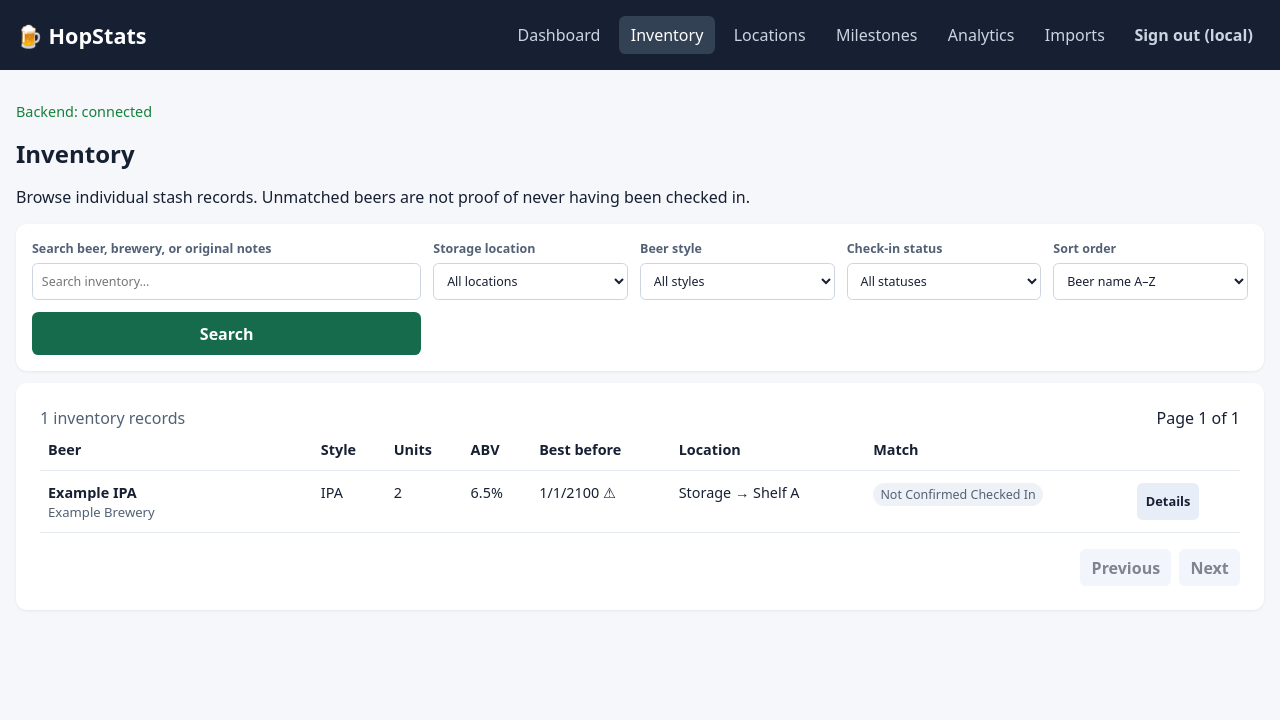
Test case: loads inventory, applies search, and opens record details
Expected: the text "Example IPA" is shown, 48,482 -> 137,502
In the field with placeholder "Search inventory…": (227, 281) 32,263 -> 421,300, type "Example"
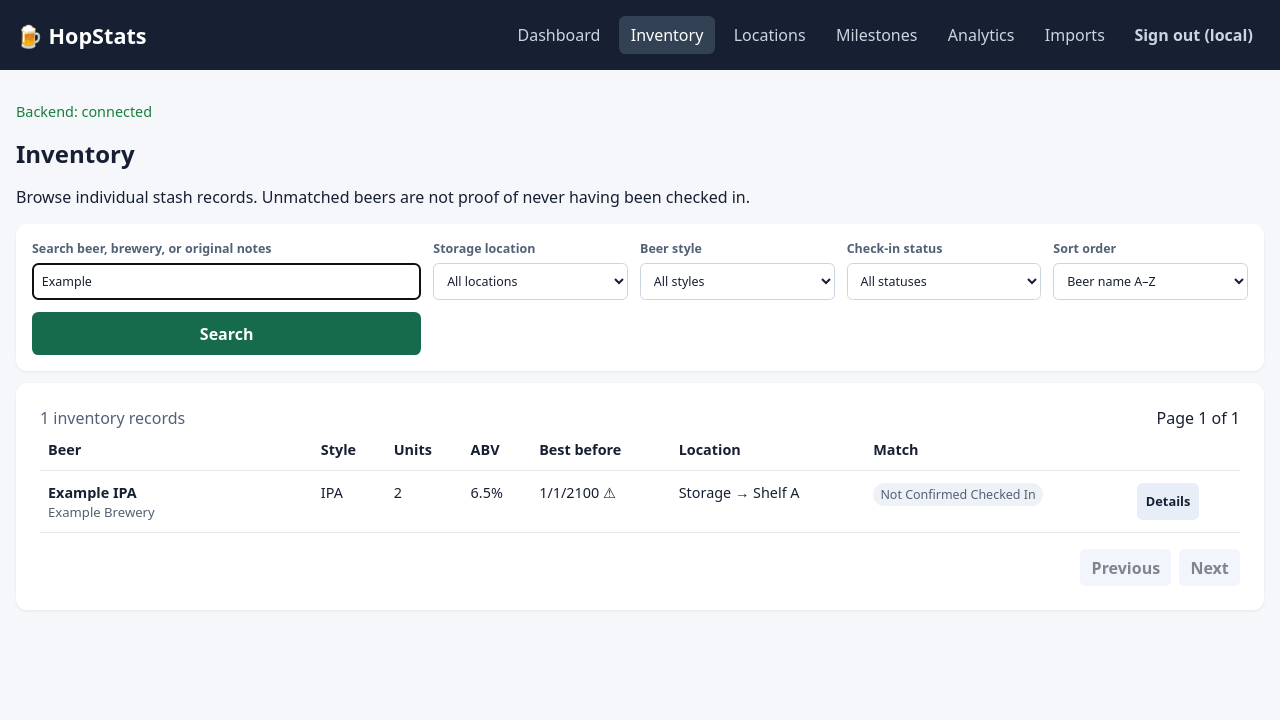
Click the button "Search": (227, 334) 32,312 -> 421,355
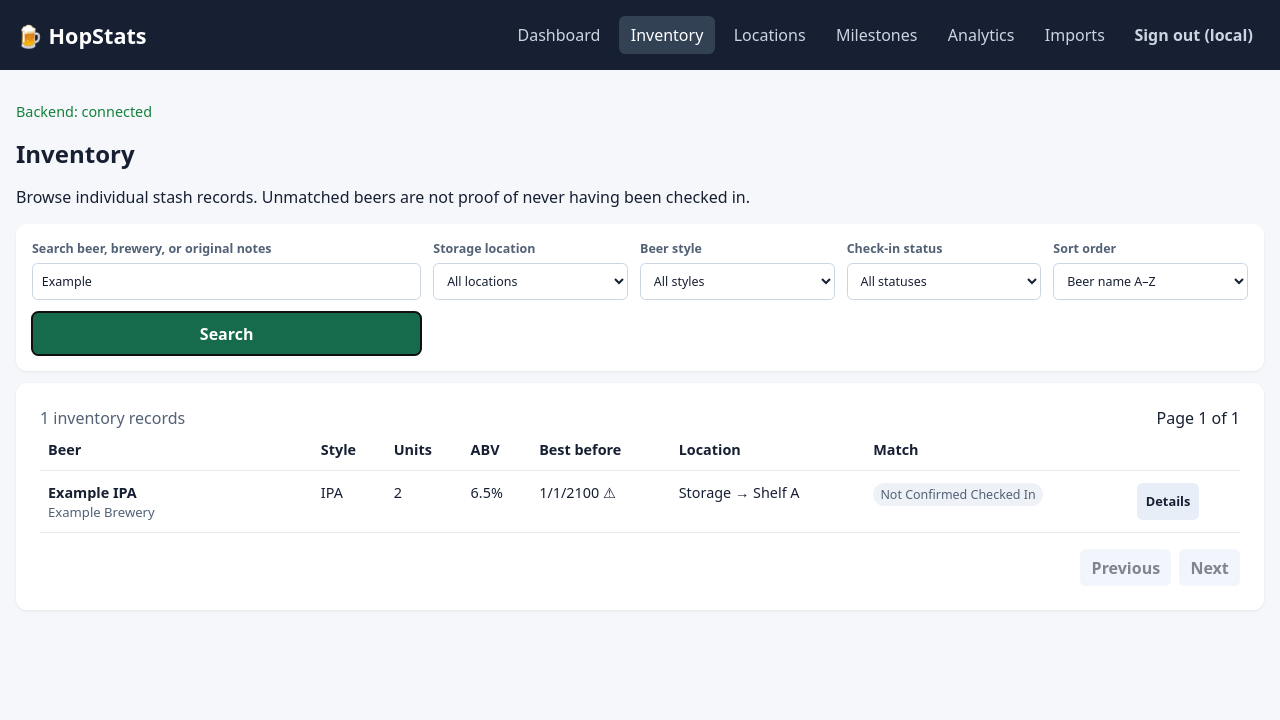
Click the button "Details": (1168, 501) 1137,482 -> 1199,520
(page scrolled)
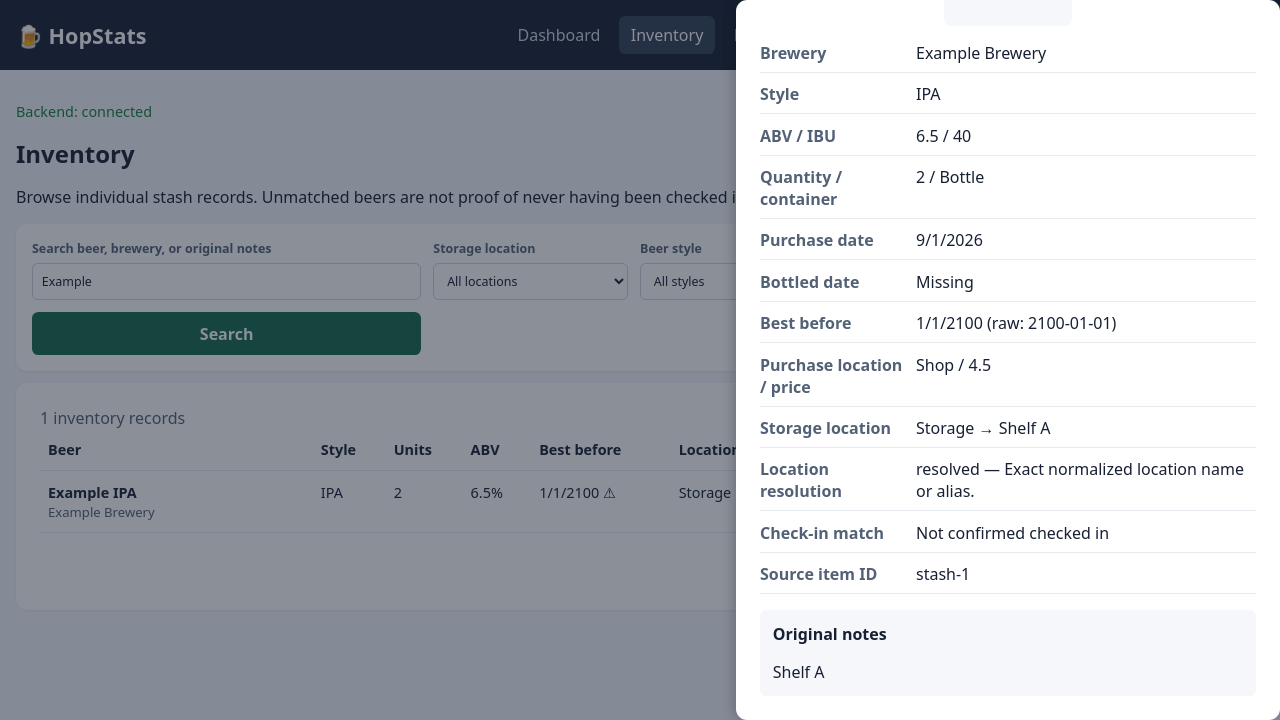
Now the text "Original notes" is shown, box 773,623 -> 887,645
